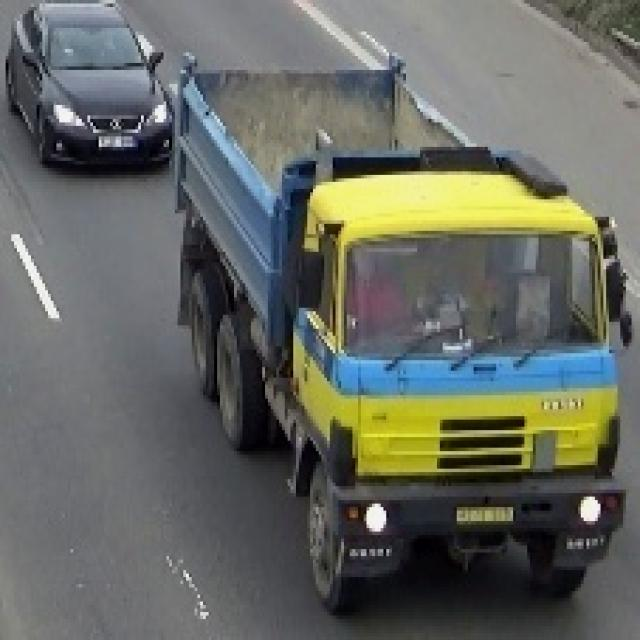truck: (162, 46, 638, 613)
